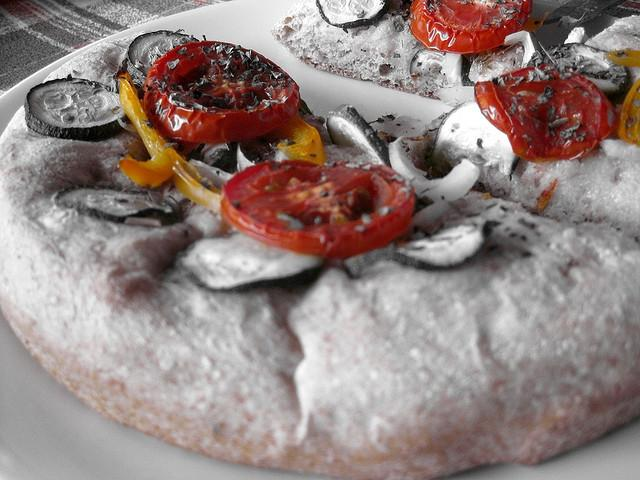tomato: (221, 159, 415, 259), (141, 41, 301, 143), (473, 64, 618, 162), (408, 0, 532, 54)
